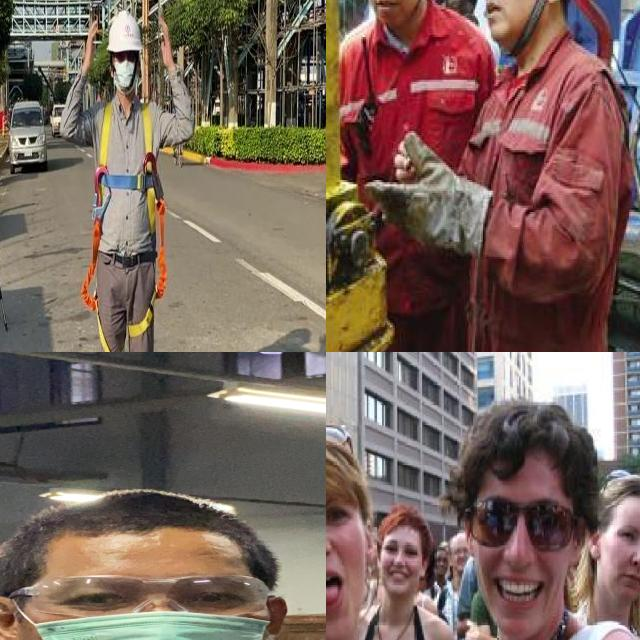Harness: (81, 102, 167, 352)
face_mask: (21, 564, 277, 640)
face_nomask: (473, 496, 567, 610), (326, 501, 367, 608), (609, 518, 640, 595), (474, 0, 532, 32), (384, 538, 422, 581), (357, 0, 412, 17)
glasses: (0, 569, 287, 618), (461, 488, 582, 560)
hand_glove: (365, 129, 493, 263)
head_nohelmet: (7, 488, 263, 566), (458, 396, 594, 476), (326, 423, 363, 496), (375, 498, 432, 538), (603, 468, 640, 517)
person: (436, 0, 640, 352), (327, 0, 501, 352), (420, 393, 640, 640), (326, 430, 434, 640), (361, 514, 459, 640)
